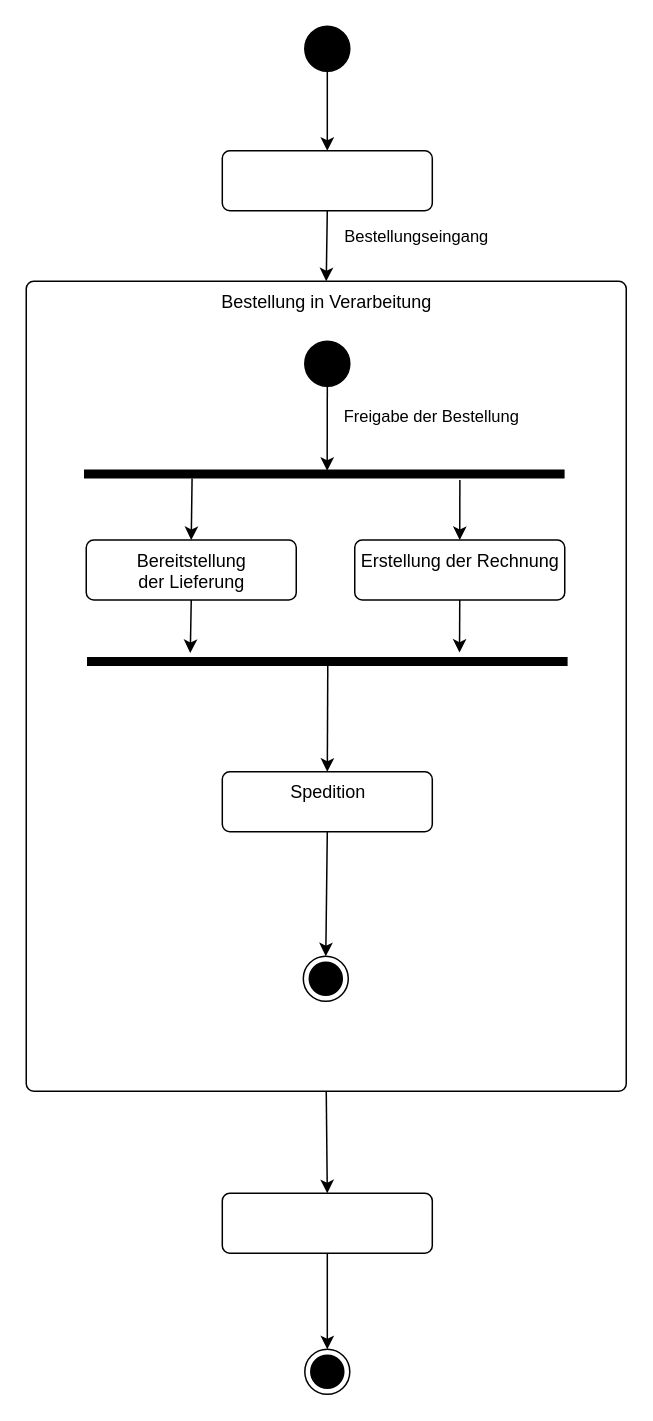
The diagram is 653 pixels wide and 1421 high, and some of its shapes have lost their labels. Each missing label, with the centre of its shape:
"Bestellsystem bereit" belongs at point (326, 180).
"Transport" belongs at point (326, 1222).
